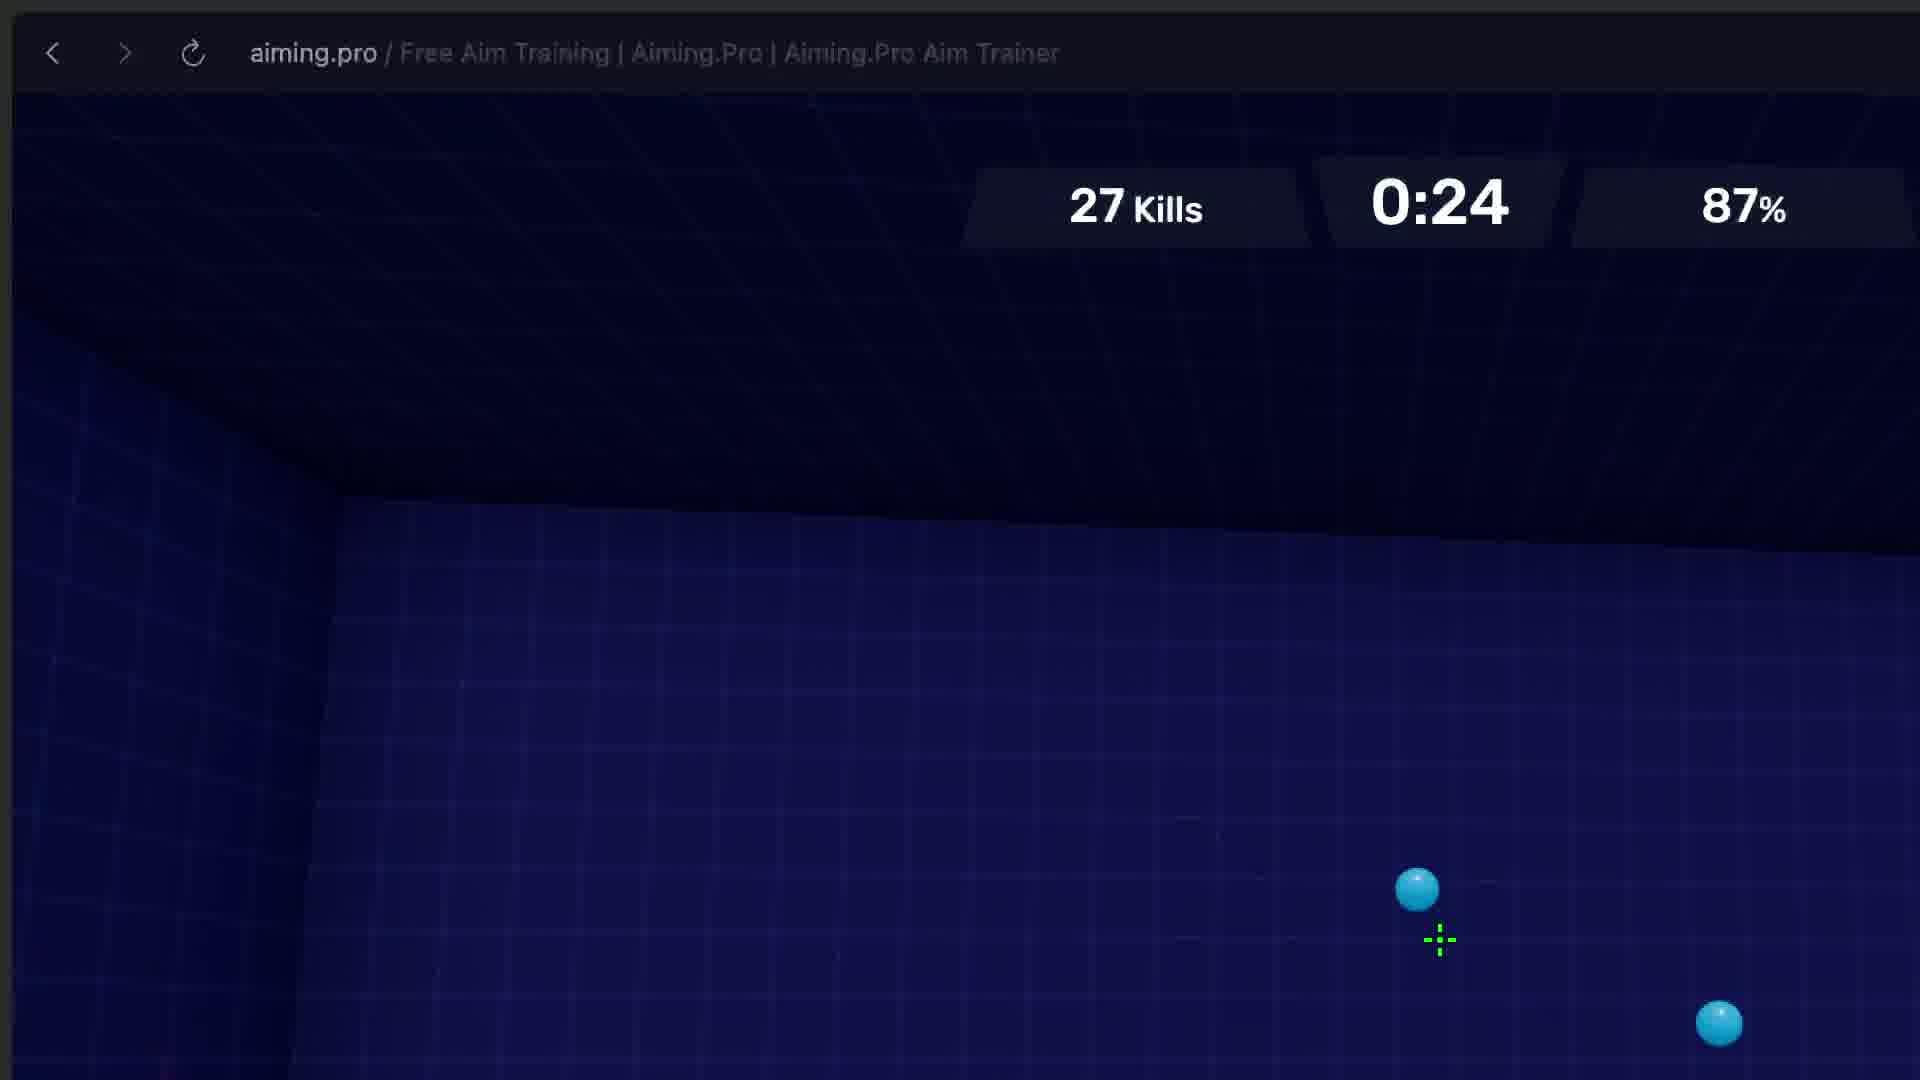target: (1696, 1000, 1743, 1046), (1394, 868, 1440, 913), (1422, 920, 1457, 957)
